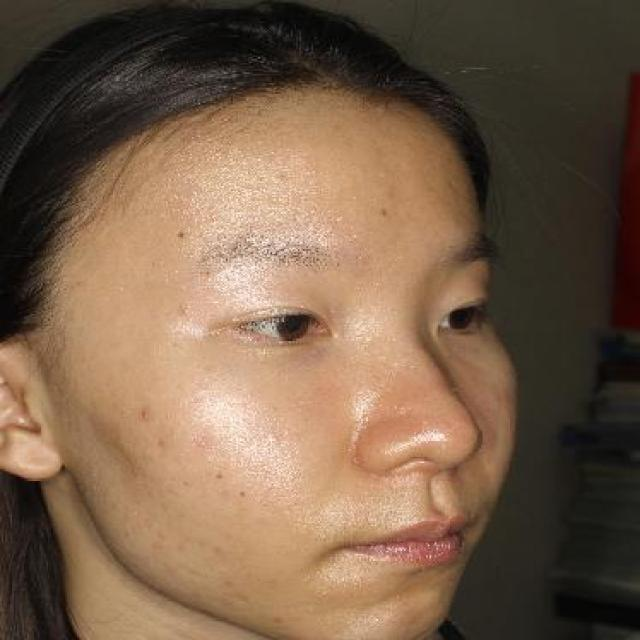dark spot: (193, 430, 219, 452), (134, 403, 156, 422), (173, 300, 193, 317), (221, 576, 238, 592), (212, 541, 228, 557), (156, 436, 171, 452), (272, 612, 288, 626)
whiteheads: (267, 171, 296, 191)
